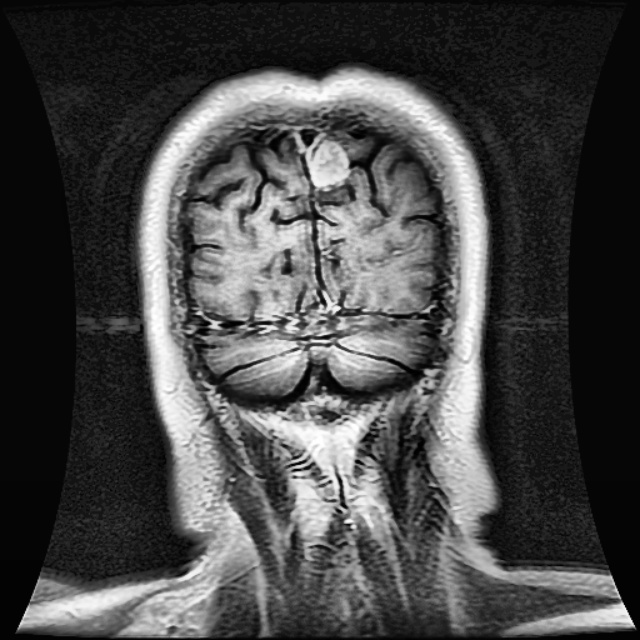Glioma: (308, 140, 349, 188)
